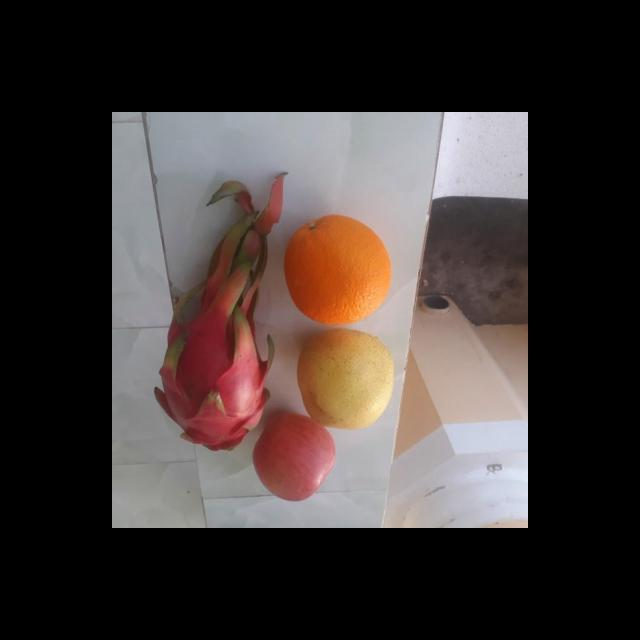apple: (250, 414, 340, 507)
orange: (282, 215, 398, 328)
pear: (290, 328, 396, 428)
pitaya: (147, 302, 270, 448)
